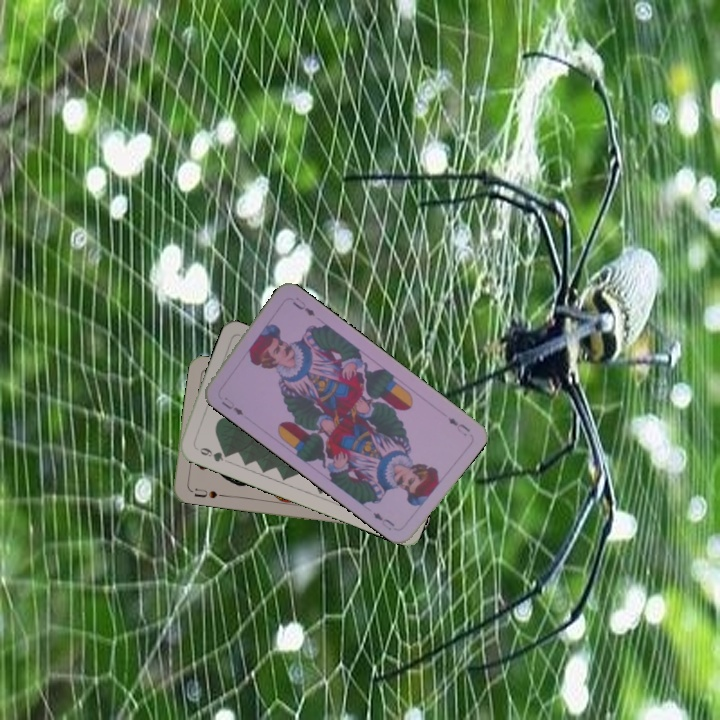EU: (444, 413, 473, 439), (217, 393, 246, 418)
G9: (191, 442, 232, 464)
SU: (190, 484, 220, 501)
